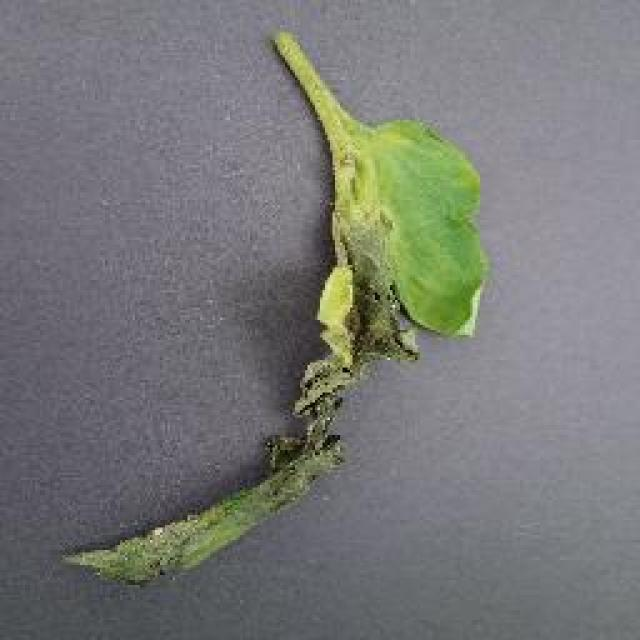Tomato___Late_blight: (57, 29, 493, 592)
